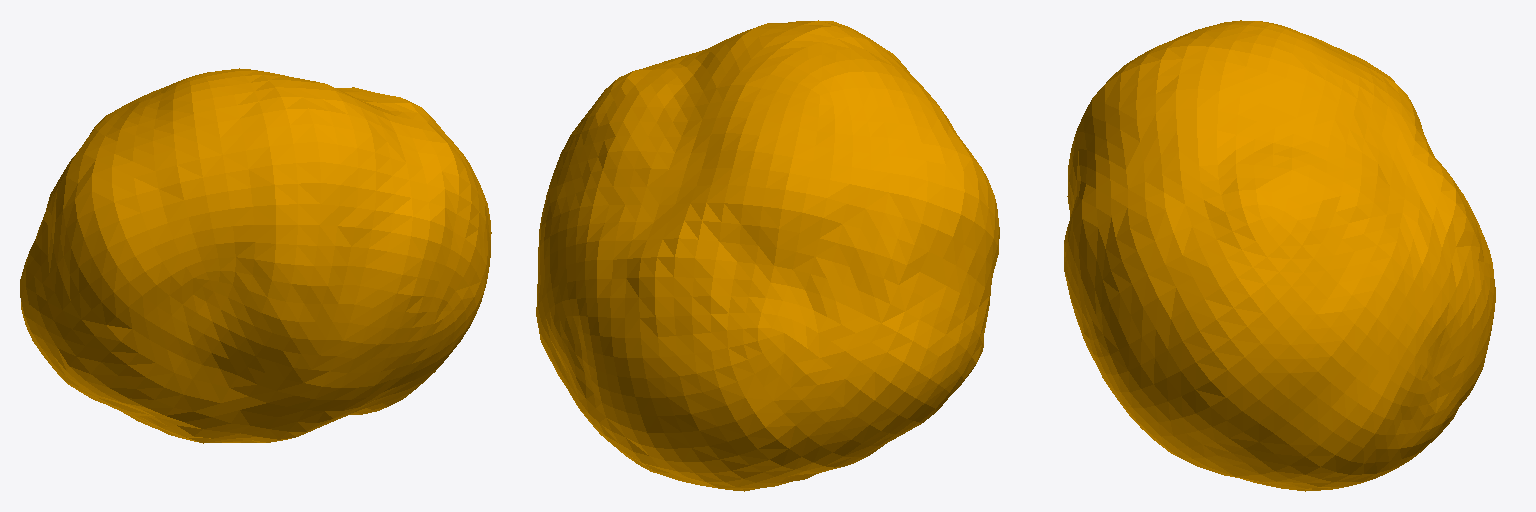
The robot description file, URDF, robot "rock":
<?xml version="1.0" ?>
<robot name="rock">
  <link name="rock">
    <inertial>
      <mass value="0.252"/>
      <origin rpy="0 0 0" xyz="0 0 0"/>
      <inertia ixx="0.000252" ixy="0" ixz="0" iyy="0.000252" iyz="0" izz="0.000252"/>
    </inertial>
    <collision name="rock_collision">
      <origin rpy="0 0 0" xyz="0 0 0"/>
      <geometry>
        <mesh filename="package://rocks/visual/61.dae" scale="1 1 1"/>
      </geometry>
    </collision>
    <visual name="rock_visual">
      <origin rpy="0 0 0" xyz="0 0 0"/>
      <geometry>
        <mesh filename="package://rocks/visual/61.dae" scale="1 1 1"/>
      </geometry>
    </visual>
  </link>
</robot>

--- What the picture shows (computed from the rendered views, not written in the file) ---
The picture shows the robot from 3 angles, left to right: view 1: azimuth 30°, elevation 25°; view 2: azimuth 150°, elevation 25°; view 3: azimuth 270°, elevation 25°; orthographic projection.
Robot: rock — 1 links, 0 joints (none); root link rock; default pose: every joint at zero.
Links seen in each view (by area): view 1: rock; view 2: rock; view 3: rock.
Boxes of the visible links, x1,y1,x2,y2 form: rock: (20, 68, 491, 443); rock: (536, 20, 999, 491); rock: (1064, 20, 1495, 491).
Bounding box of the posed robot: 0.0657 × 0.0565 × 0.0582 m (x, y, z).
Meshes: 1 distinct files referenced, 1 mesh visuals loaded (1 Collada DAE).